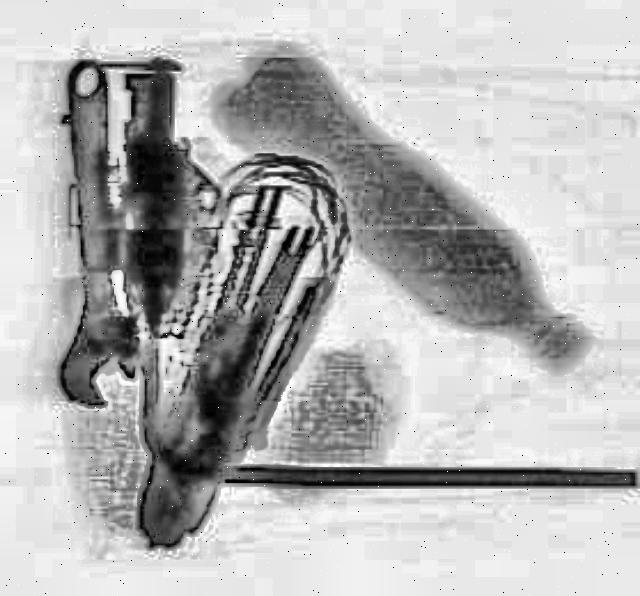Wrench: (43, 60, 147, 412)
